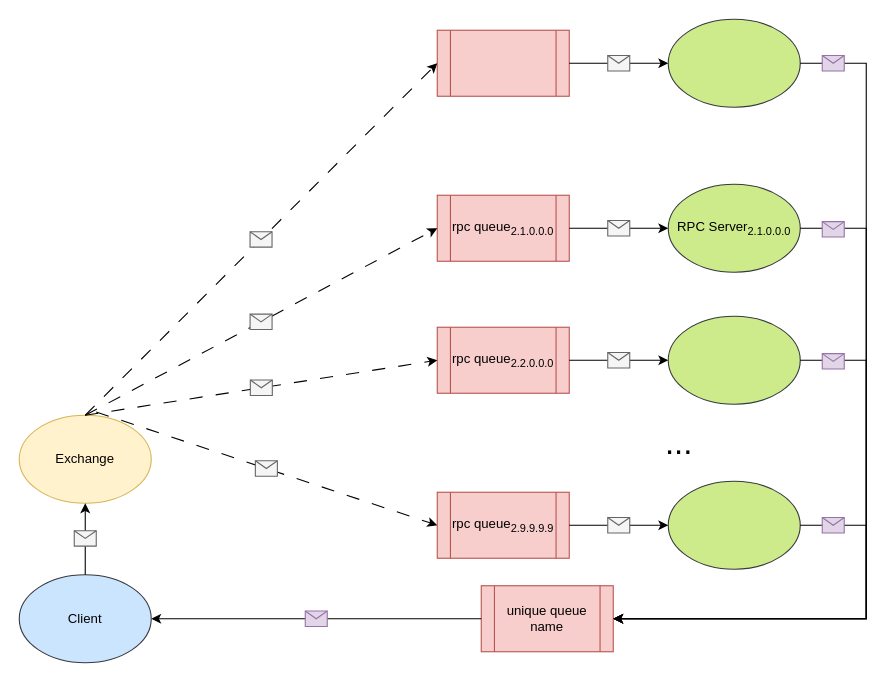
Some shapes in this 894 by 682 pixel diagram are drawn without their labels. The shapes that lost their labels are listed below. From the top down, each one's centre as x and y in pixels, then its label:
At point 502,62: "rpc queue 2.0.0.0.0".
At point 733,62: "RPC Server 2.0.0.0.0".
At point 733,359: "RPC Server 2.2.0.0.0".
At point 733,524: "RPC Server 2.9.9.9.9".
